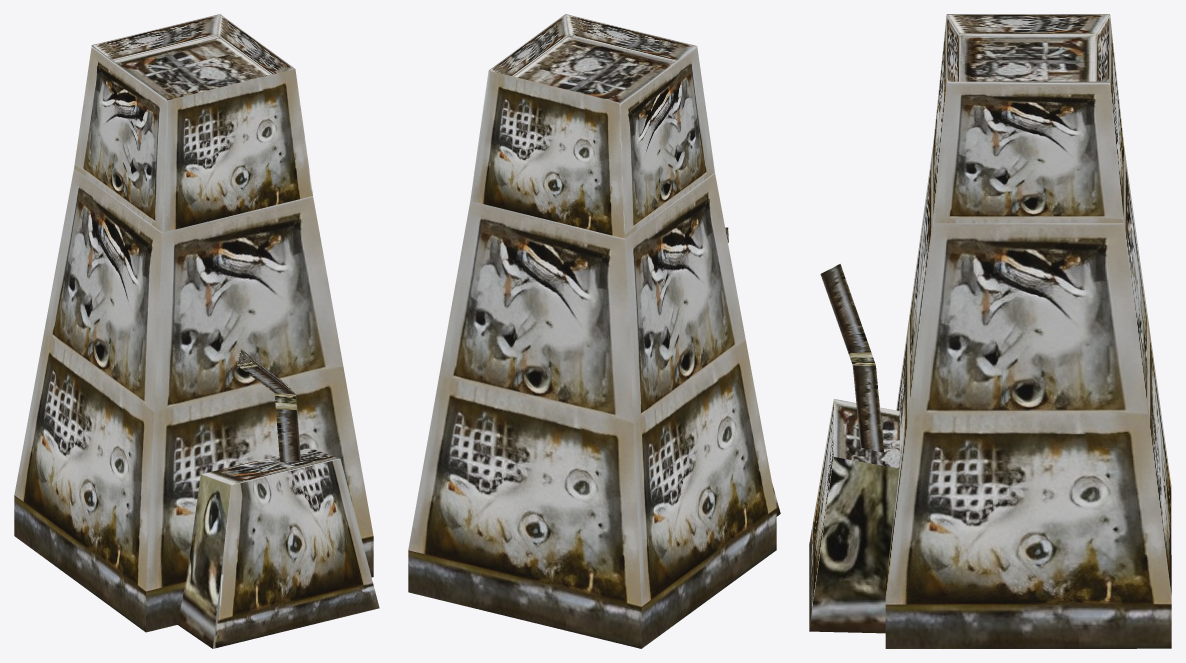
The model's file is d_mediumwall_dam_hdtex.glb.
3 views of the same model, side by side, from view 1: azimuth 30°, elevation 25°; view 2: azimuth 150°, elevation 25°; view 3: azimuth 270°, elevation 25° (orthographic). The views are drawn at different scales.
Parts seen in each view (by area): view 1: DavionMediumWall_damaged; view 2: DavionMediumWall_damaged; view 3: DavionMediumWall_damaged.
Part boxes in pixels (<box>): DavionMediumWall_damaged: <box>14,14,379,648</box>; DavionMediumWall_damaged: <box>408,14,780,648</box>; DavionMediumWall_damaged: <box>809,14,1171,648</box>.
Size of the model in its own units: 5.49 by 11.52 by 6.99.
Materials: 1 (1 with a texture image).
